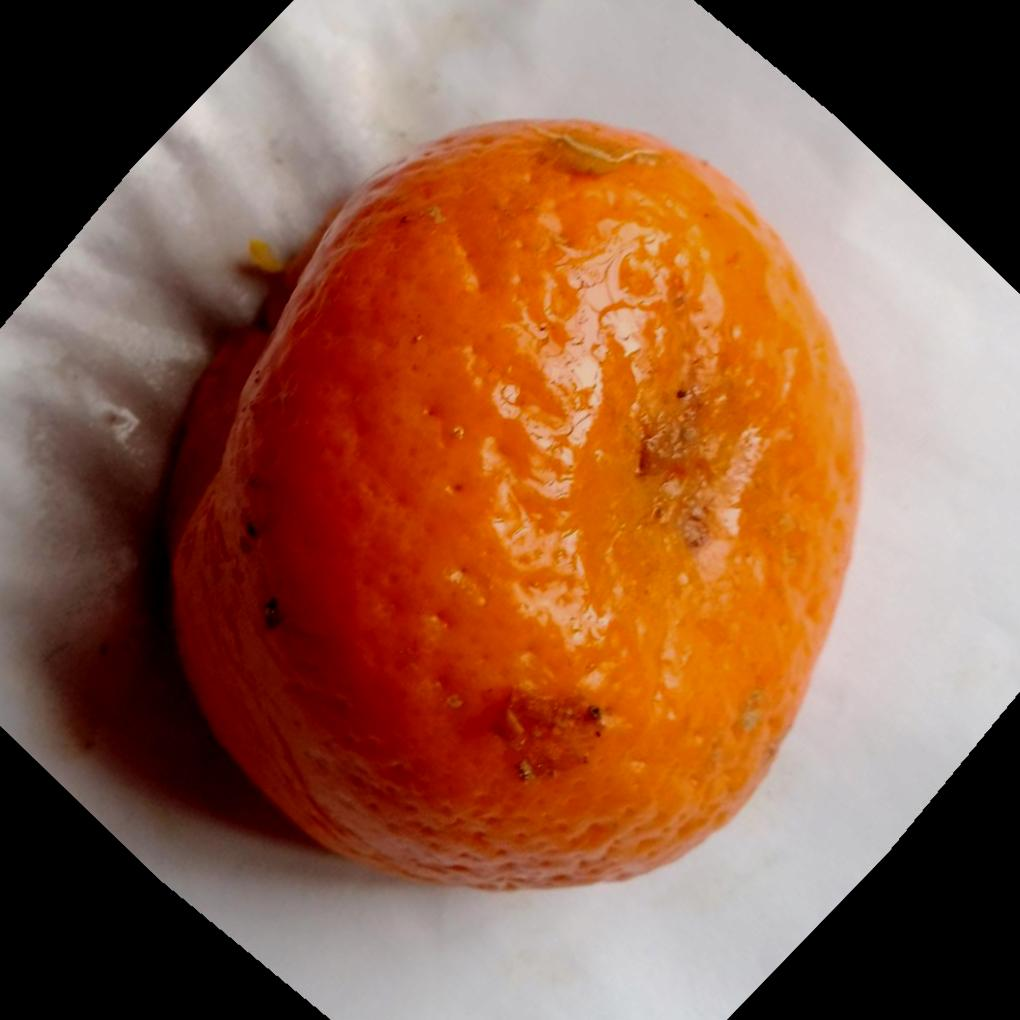FreshOrange: (162, 117, 867, 897)
